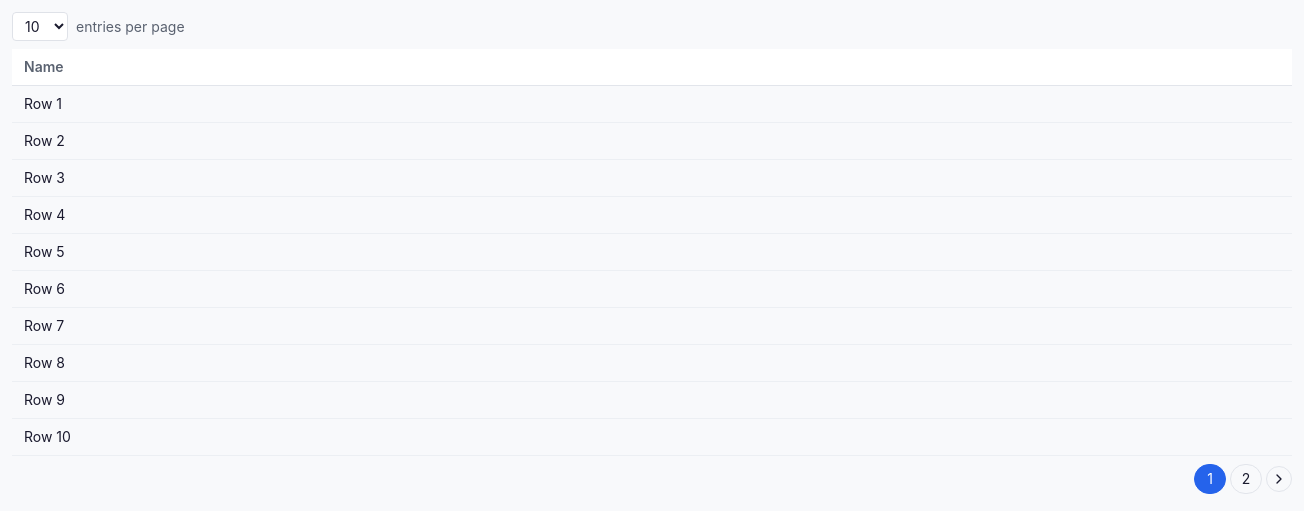
Scenario: QqqTableWidget paging › offers the entries-per-page select only when hidePaginationDropdown is false
Select "5" in the dropdown named "Entries per page" at (40, 26), box [12,12,68,41]
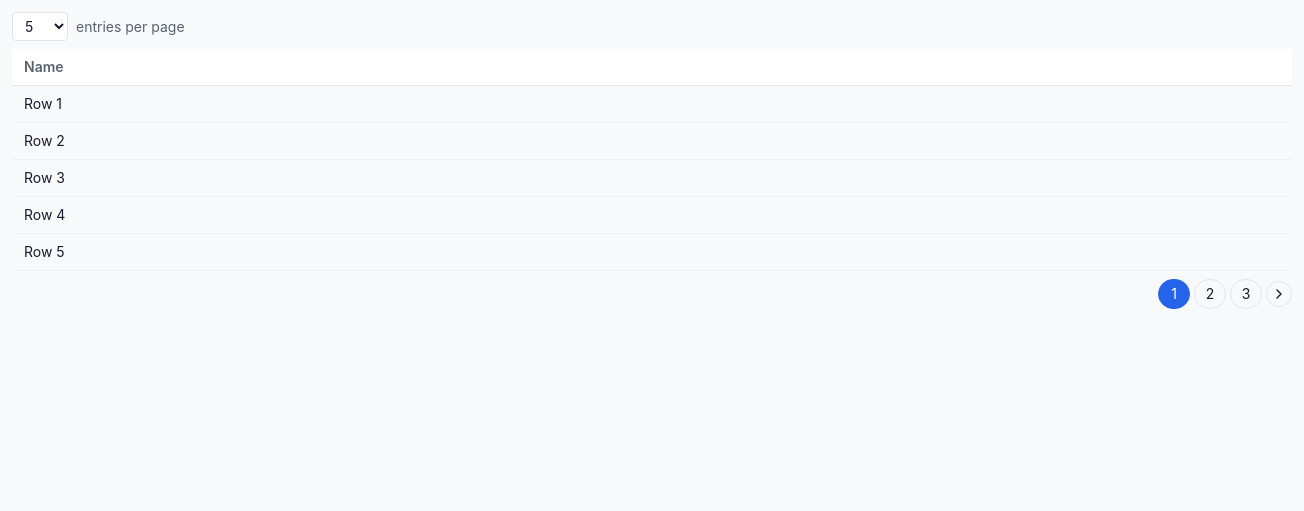
Result: the number of buttons "1" is 3 at [1158,279,1190,309]; [1194,279,1226,309]; [1230,279,1262,309]
